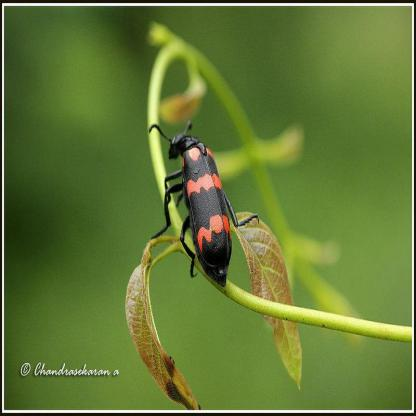beetle: (143, 109, 246, 287)
